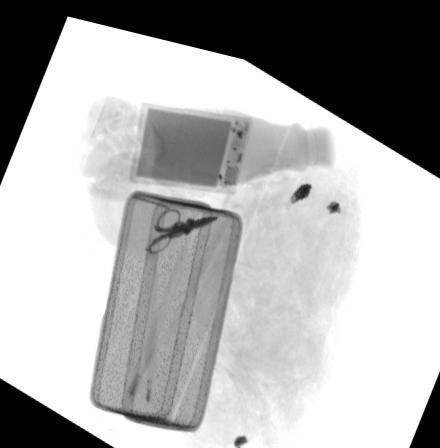Powerbank: (124, 93, 252, 188)
Scissors: (143, 198, 222, 252)
